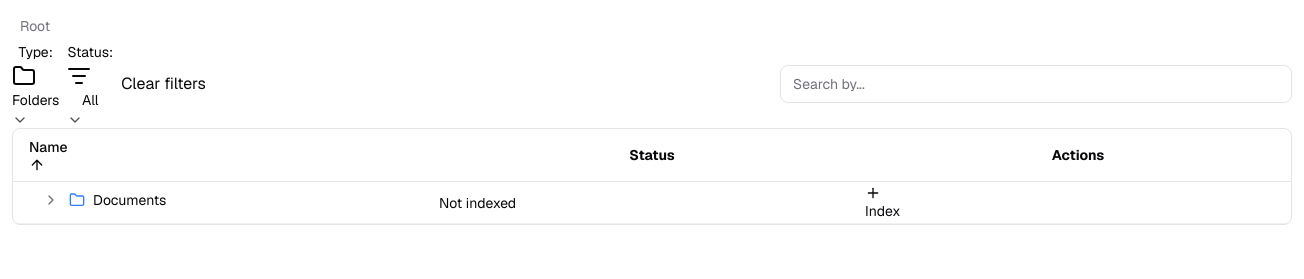
Test: FilePickerGoogleDriveContainer › Filters and sorting › should be able to clear filters after filtering
Expected: the text "Documents" is shown, [93, 190, 166, 210]
Expected: the text "readme.pdf" is not shown
Step 1. Click the button with aria-label "Clear all filters" → (164, 84), box [121, 72, 206, 96]
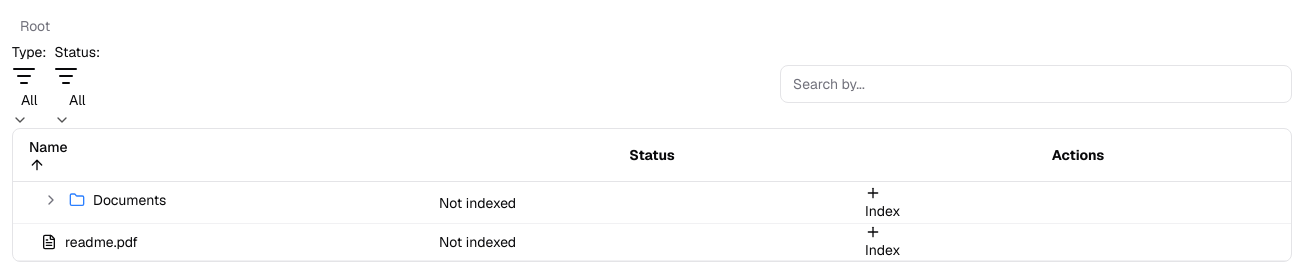
Expected: the text "Documents" is shown, [93, 190, 166, 210]
Result: the text "readme.pdf" is shown at [65, 232, 138, 252]
